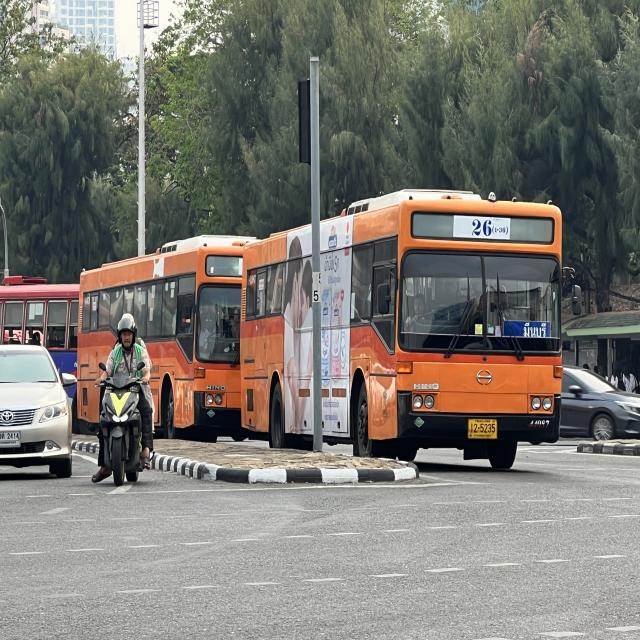BMTA-bus: (238, 182, 583, 474), (75, 225, 272, 436)
Bus-Line-Number: (455, 213, 511, 239)
Destination-Sign-Normal: (502, 319, 552, 339)
